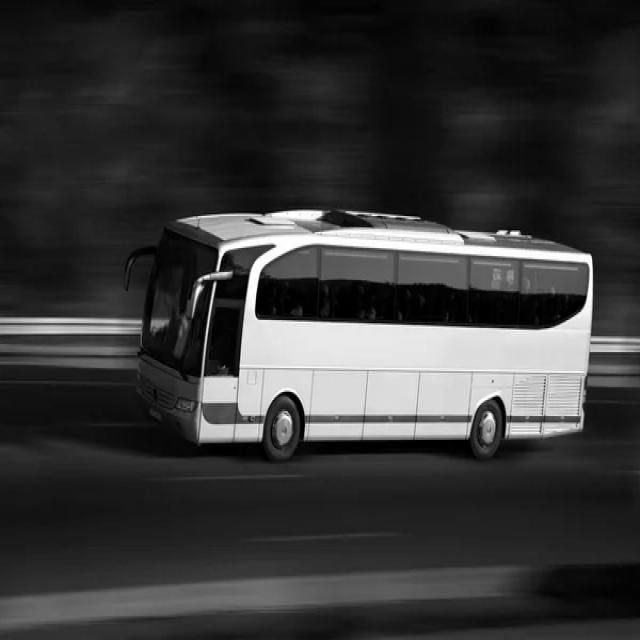Bus: (127, 210, 594, 460)
